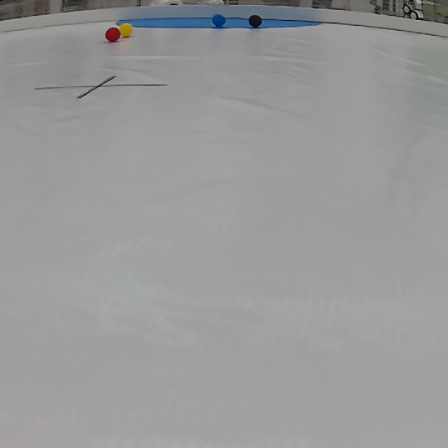black: (247, 15, 264, 27)
blue: (211, 15, 227, 26)
blue_base: (115, 14, 324, 30)
red: (105, 30, 120, 41)
yellow: (120, 23, 135, 37)
